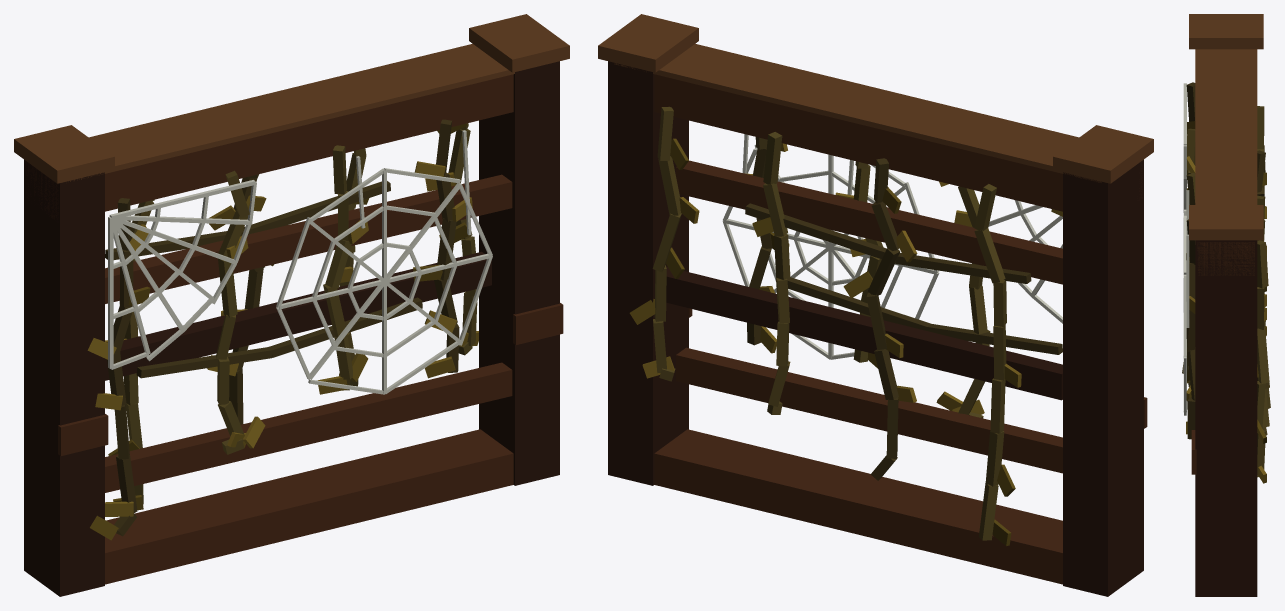
The model's file is web_barrier_4m.glb.
3 views of the same model, side by side, from view 1: azimuth 30°, elevation 25°; view 2: azimuth 150°, elevation 25°; view 3: azimuth 270°, elevation 25° (orthographic). The views are drawn at different scales.
Visible parts, largest first — view 1: web_barrier_4m; view 2: web_barrier_4m; view 3: web_barrier_4m.
Boxes of the visible parts, x1=… form: web_barrier_4m: x1=14, y1=14, x2=569, y2=596; web_barrier_4m: x1=598, y1=14, x2=1153, y2=596; web_barrier_4m: x1=1182, y1=14, x2=1270, y2=596.
Size of the model in its own units: 4.1 by 3.29 by 0.7153.
